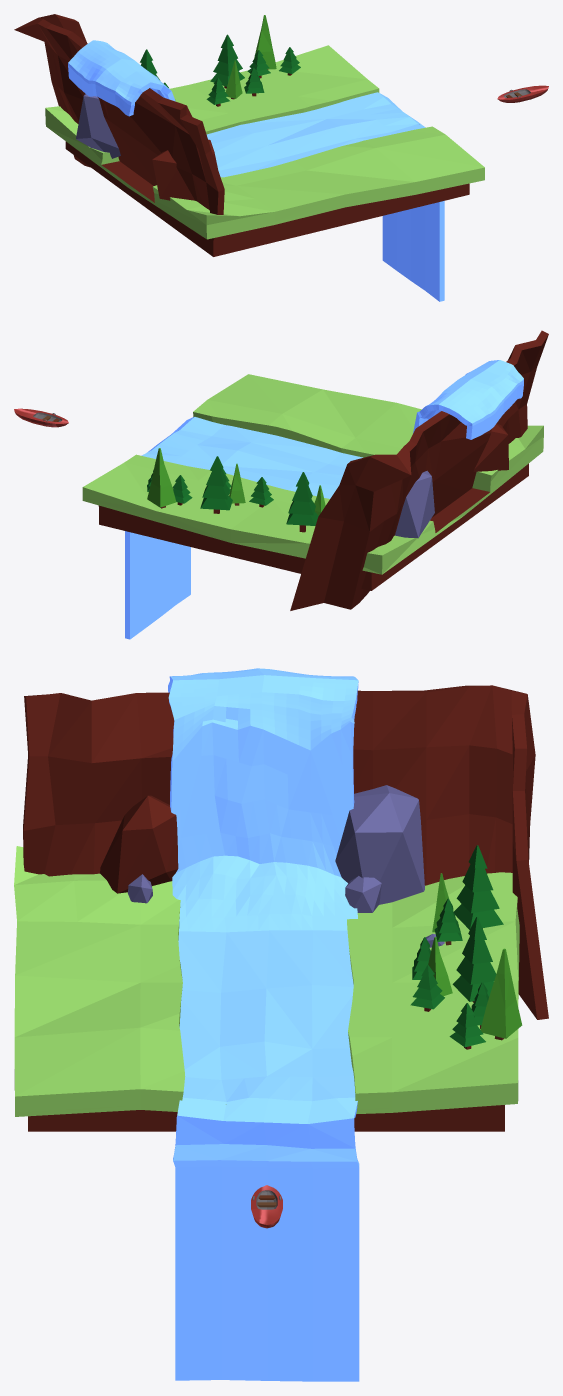
File: waterfallV1.3.glb
3 views of the same model, one above another, from view 1: azimuth 30°, elevation 25°; view 2: azimuth 150°, elevation 25°; view 3: azimuth 270°, elevation 25° (orthographic). The views are drawn at different scales.
Parts seen in each view (by area): view 1: Flor, River, Cliff, Roc 2.001, Roc 2, Arbre 2.008, Arbre 1.002, Boat, Arbre 1.001, Arbre 2; view 2: Flor, River, Cliff, Roc 2.001, Roc 2, Arbre 2.007, Arbre 2.008, Arbre 1.002, Boat, Arbre 2, Arbre 1.001; view 3: River, Flor, Cliff, Roc 2.001, Roc 2, Arbre 2.007, Arbre 1.002, Arbre 2.008, Roc, Boat, Arbre 2.006, Arbre 2.002.
Part boxes in pixels (<box>): Flor: <box>45,45,484,256</box>; River: <box>68,40,444,301</box>; Cliff: <box>14,14,224,214</box>; Roc 2.001: <box>76,94,120,158</box>; Roc 2: <box>152,139,217,200</box>; Arbre 2.008: <box>210,34,244,88</box>; Arbre 1.002: <box>254,15,276,69</box>; Boat: <box>497,85,548,102</box>; Arbre 1.001: <box>225,60,242,99</box>; Arbre 2: <box>206,78,229,106</box>; Flor: <box>82,374,543,590</box>; River: <box>125,360,523,639</box>; Cliff: <box>290,330,548,610</box>; Roc 2.001: <box>395,470,434,538</box>; Roc 2: <box>473,423,508,471</box>; Arbre 2.007: <box>286,472,318,532</box>; Arbre 2.008: <box>200,456,232,513</box>; Arbre 1.002: <box>147,448,176,508</box>; Boat: <box>14,408,68,427</box>; Arbre 2: <box>249,477,273,507</box>; Arbre 1.001: <box>229,463,245,505</box>; River: <box>168,668,359,1381</box>; Flor: <box>14,846,519,1131</box>; Cliff: <box>23,685,548,1019</box>; Roc 2.001: <box>335,785,424,904</box>; Roc 2: <box>100,795,178,893</box>; Arbre 2.007: <box>454,845,503,929</box>; Arbre 1.002: <box>480,948,522,1040</box>; Arbre 2.008: <box>452,916,496,1002</box>; Roc: <box>345,876,381,912</box>; Boat: <box>251,1185,282,1228</box>; Arbre 2.006: <box>449,1003,485,1049</box>; Arbre 2.002: <box>410,965,444,1011</box>.
Bounding box in the file's own units: 13.91 × 8.55 × 8.75.
12 materials, 1 textured.
